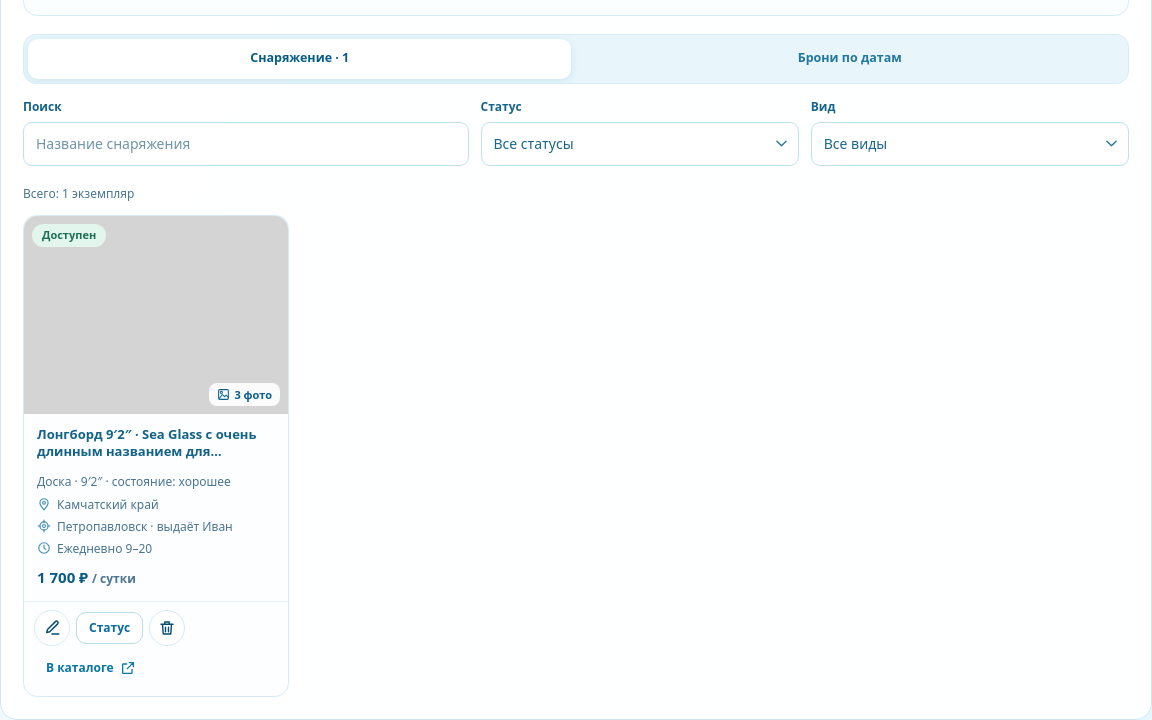
Scenario: RentalCabinet › changes the status and explains a conflict with active bookings
The image size is (1152, 720).
(page scrolled)
Click the button with aria-label "Сменить статус" at [110, 628], box [76,612,143,644]
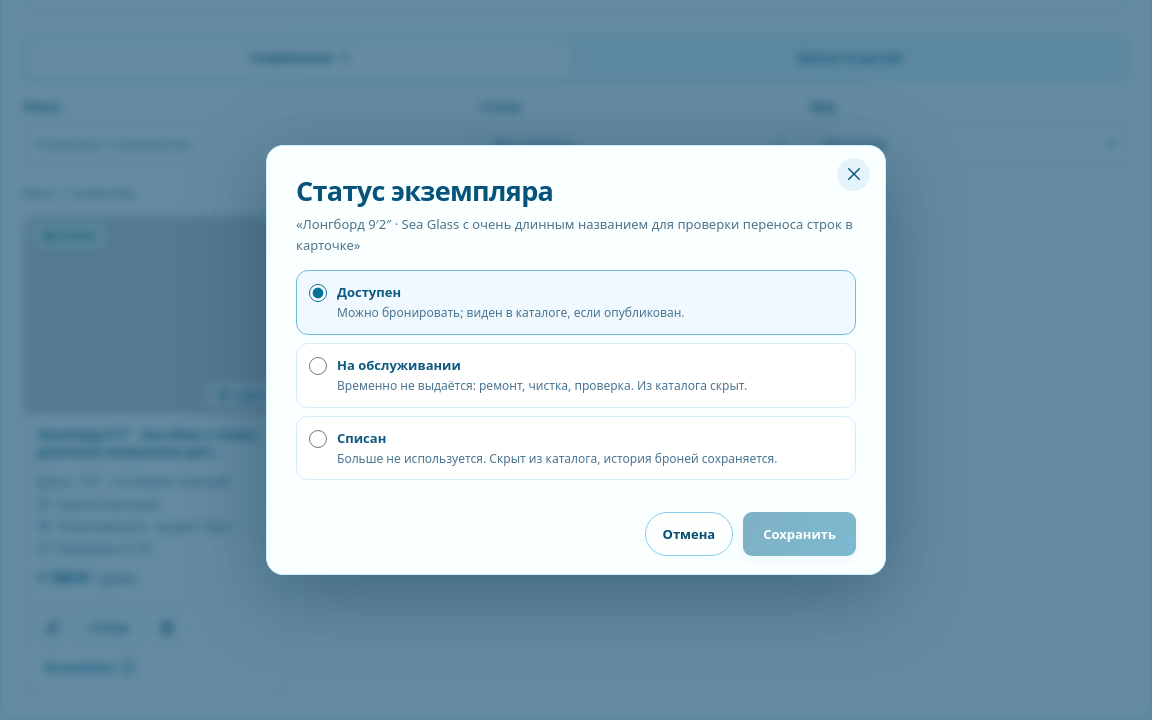
Click the radio button labelled "На обслуживании" at [318, 366], box [309,357,327,375]
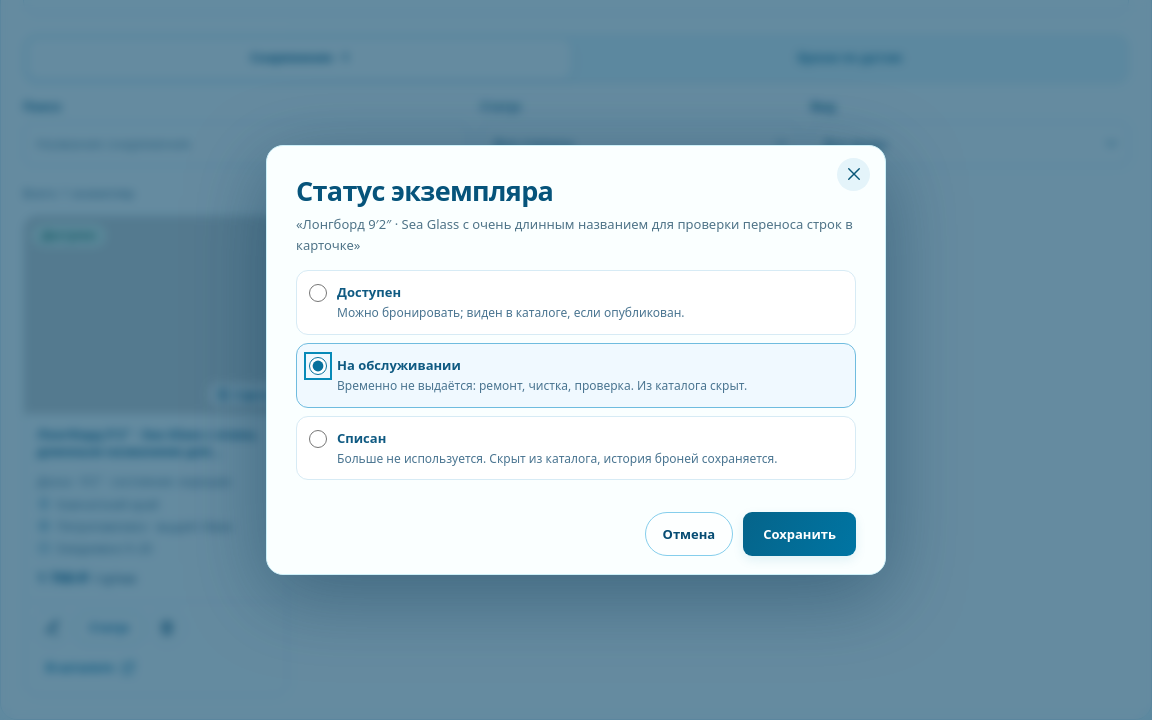
Click the button "Сохранить" at [800, 534], box [743,512,856,556]
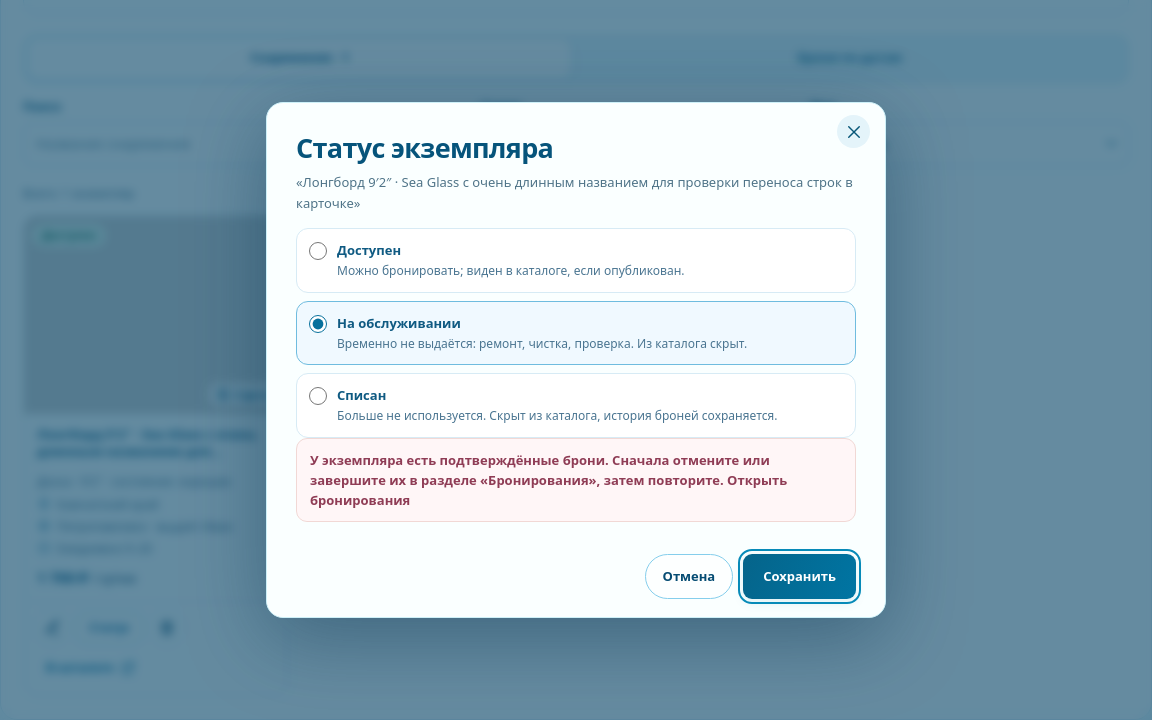
Expected: the text "Сначала отмените или завершите их" is shown, [310,451,770,489]
